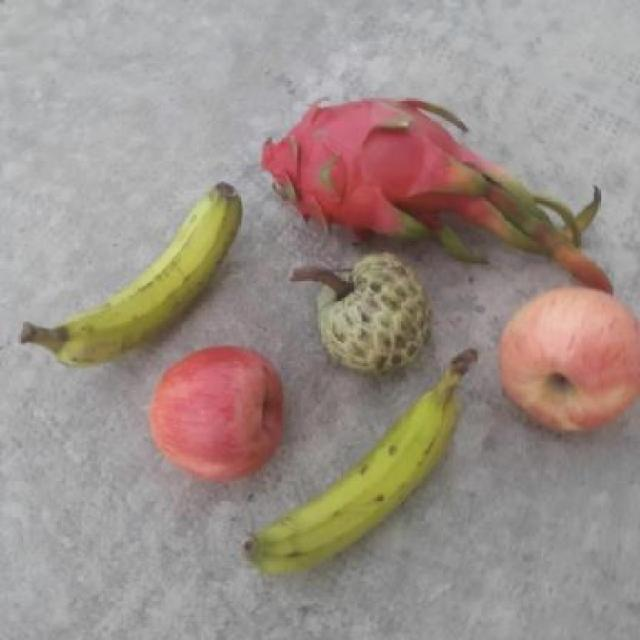apple: (488, 284, 640, 441), (142, 339, 288, 493)
banana: (232, 348, 480, 580), (10, 180, 242, 372)
dragon fruit: (256, 98, 496, 258)
sugar apple: (308, 251, 432, 375)
